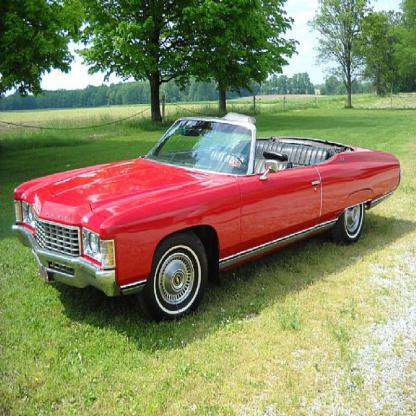Car: (12, 112, 401, 324)
